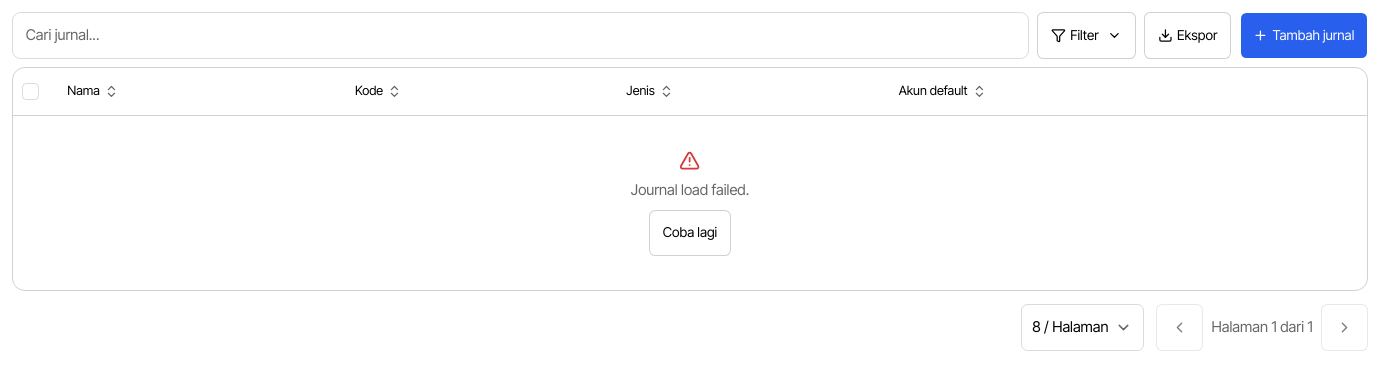
Test: JournalsSection remainder › shows the error state with retry when loading fails
Expected: the text "Journal load failed." is shown, x1=631 y1=180 x2=749 y2=201
Click the button "Coba lagi" at (690, 233), box x1=649 y1=210 x2=731 y2=256
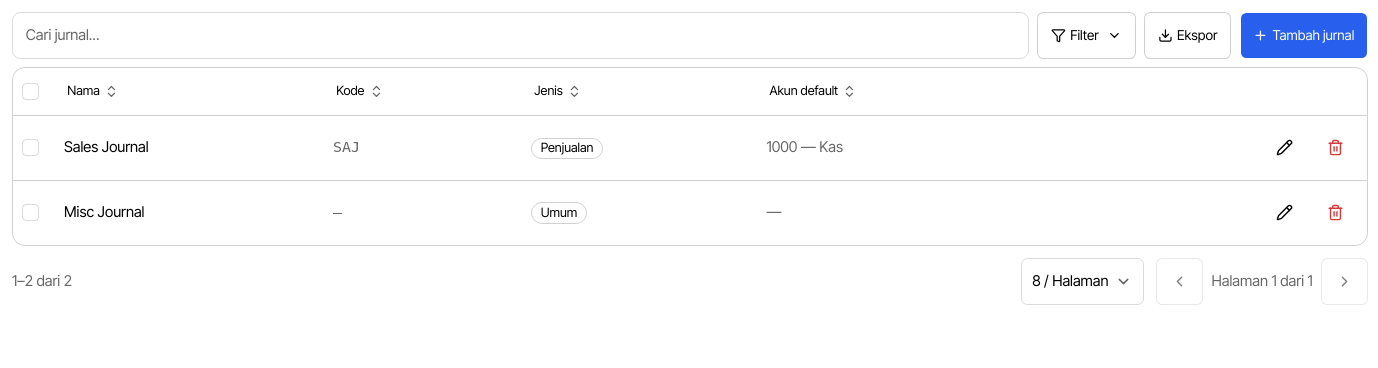
Expected: the text "Sales Journal" is shown, x1=64 y1=138 x2=149 y2=156
